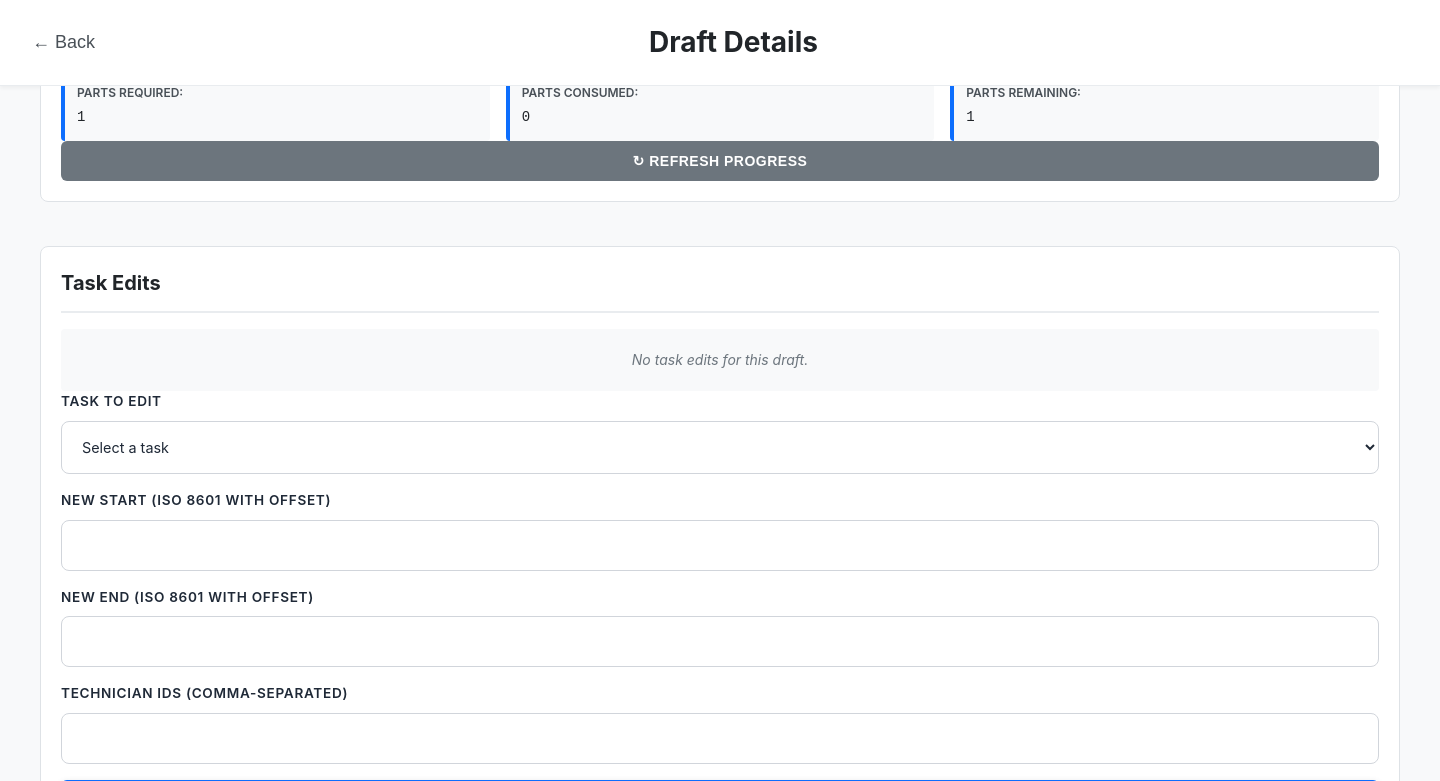
Test case: DraftDetailScreen draft management › submits a task edit for the selected task and shows the refreshed edits
(page scrolled)
Step 1. Select "P101-PREP" in the dropdown labelled "Task to edit" → (720, 448), box [61,421,1379,474]
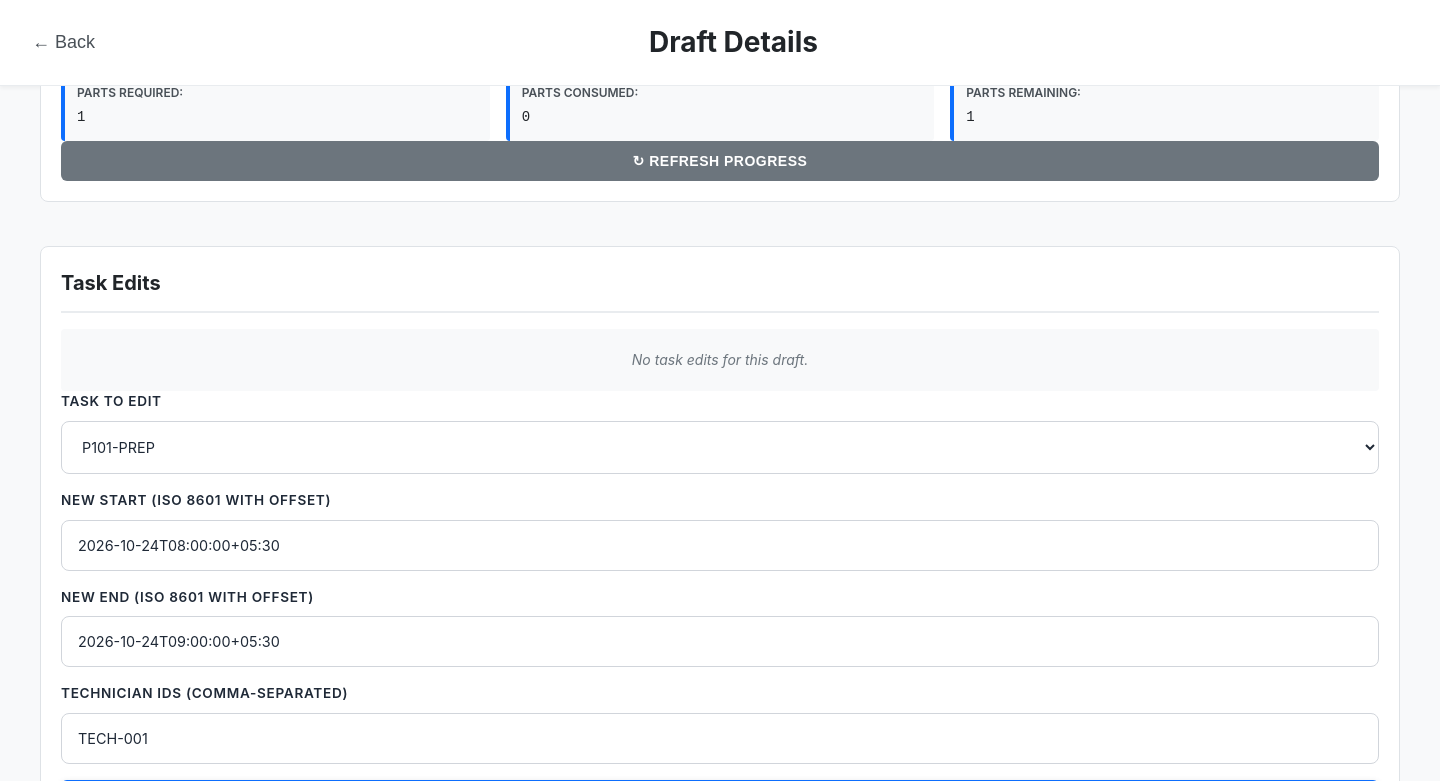
Check: the field labelled "New start (ISO 8601 with offset)" holds "2026-10-24T08:00:00+05:30"
Step 2. Replace the text in the field labelled "New start (ISO 8601 with offset)" with "2026-10-24T13:00:00+05:30" → (720, 545), box [61,520,1379,571]
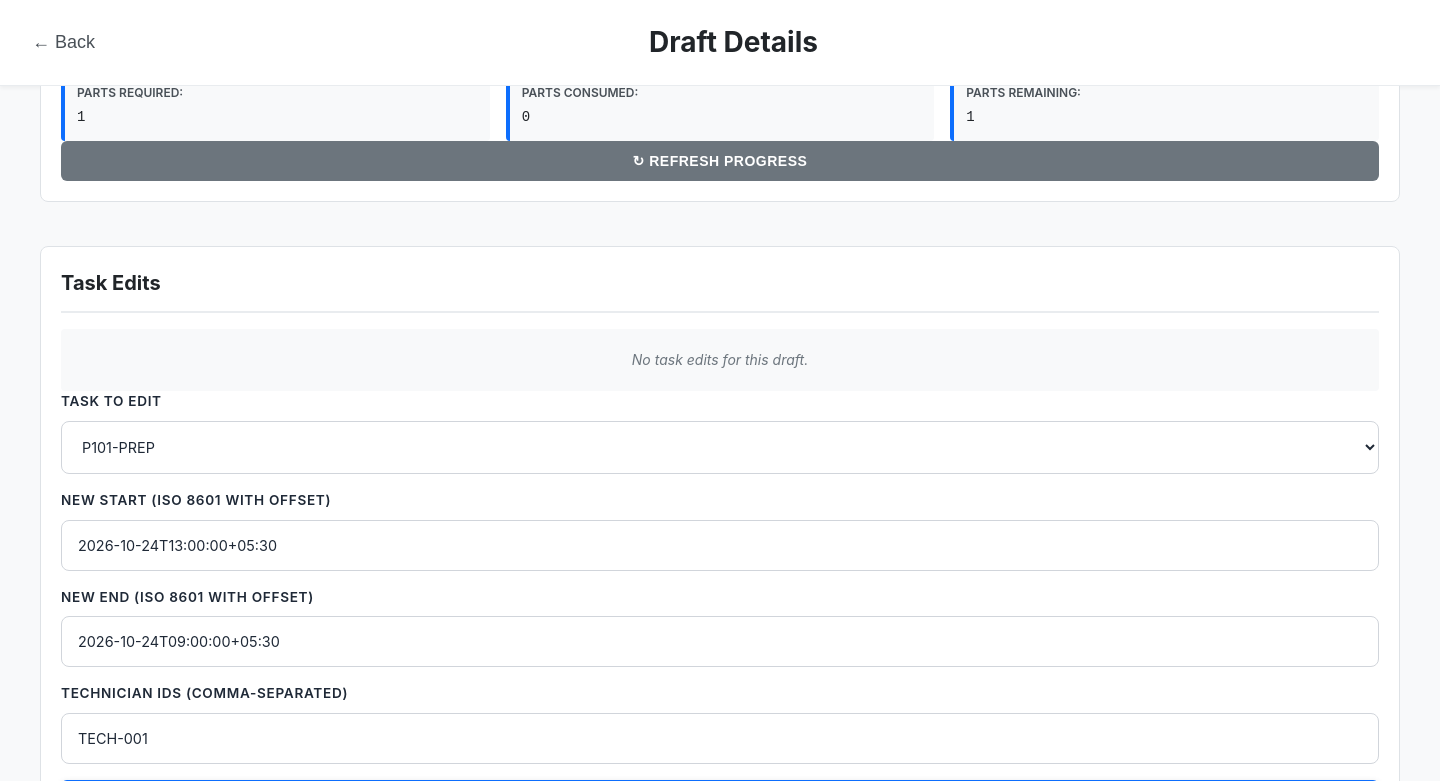
Step 3. Replace the text in the field labelled "New end (ISO 8601 with offset)" with "2026-10-24T14:00:00+05:30" → (720, 642), box [61,616,1379,668]
(page scrolled)
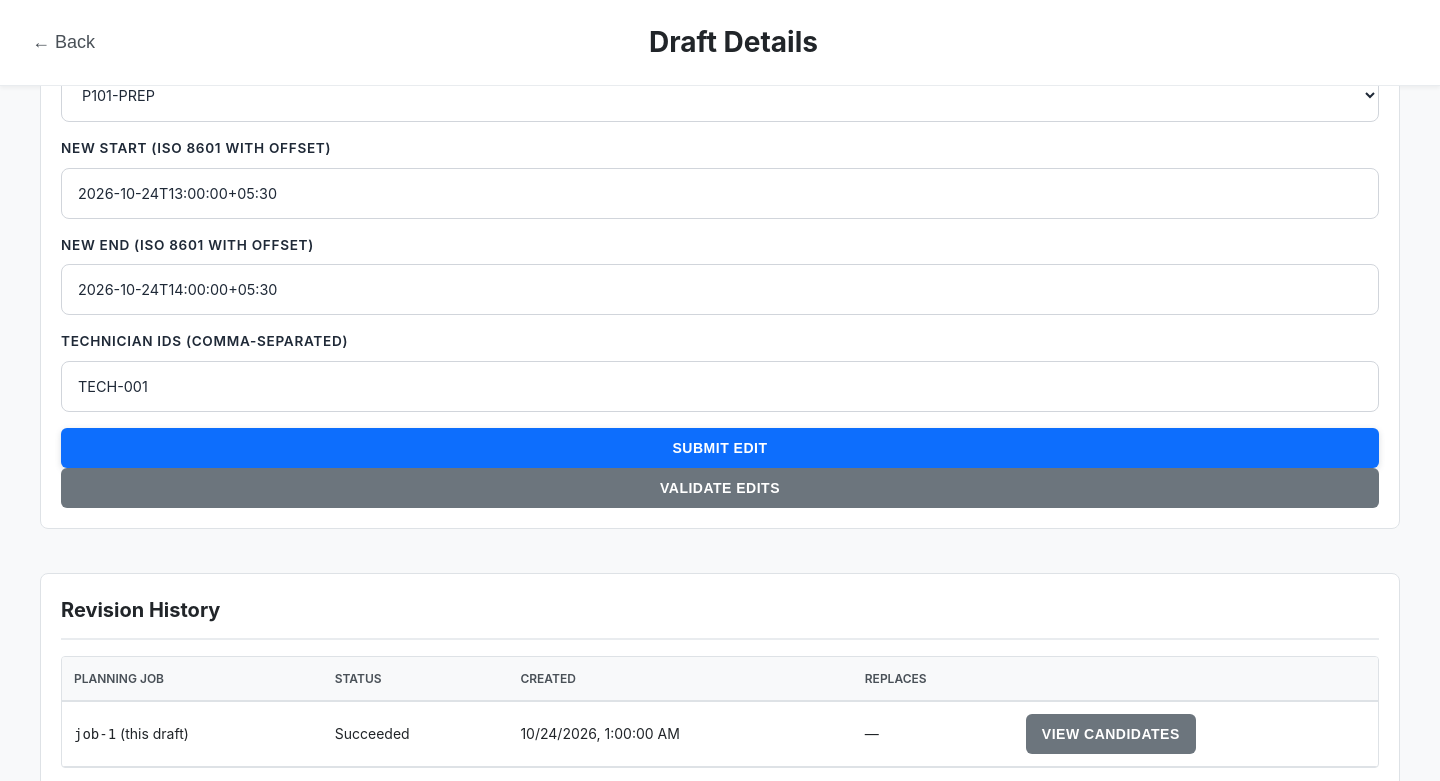
Step 4. Click the button "Submit edit" → click(720, 448), box [61,428,1379,468]
(page scrolled)
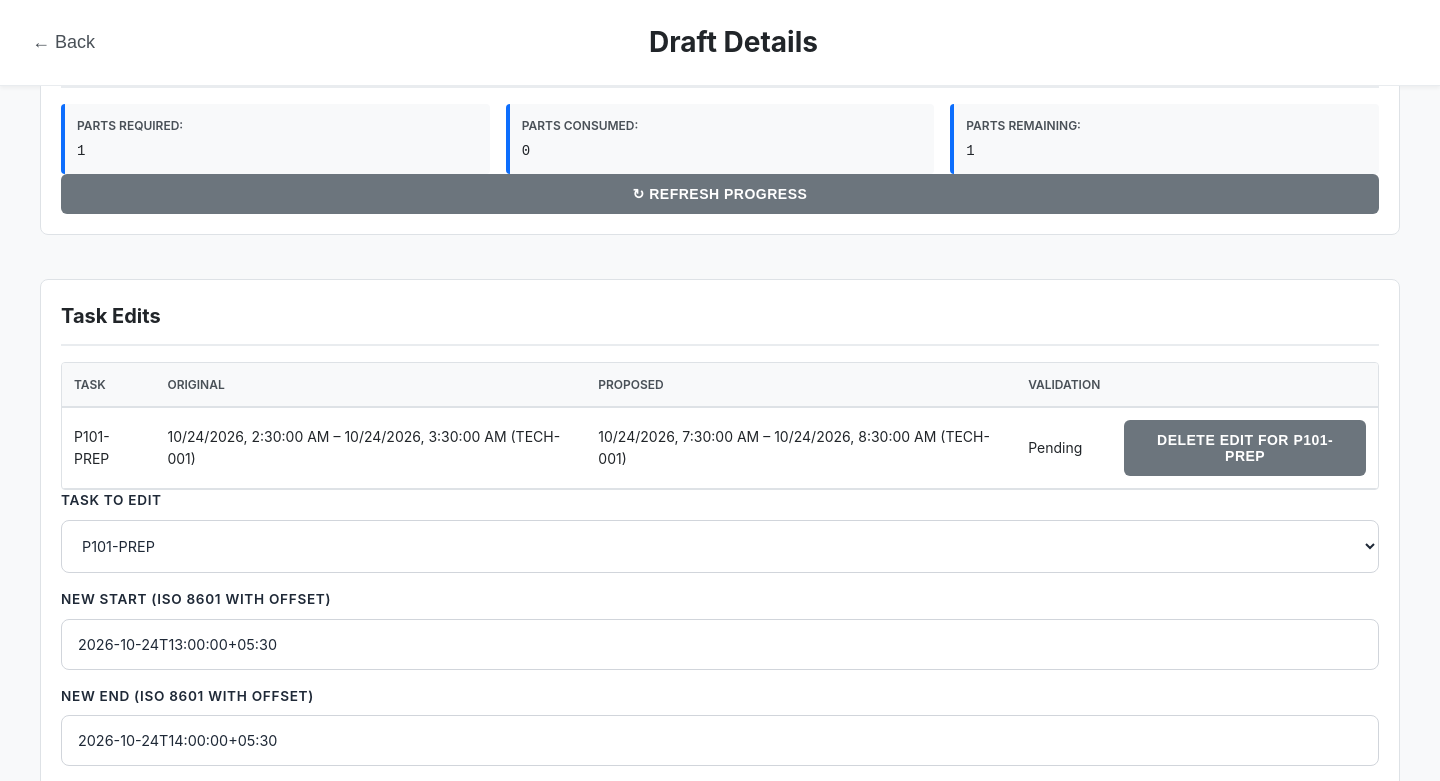
Check: the button "Delete edit for P101-PREP" is shown, box [1124,420,1366,476]
